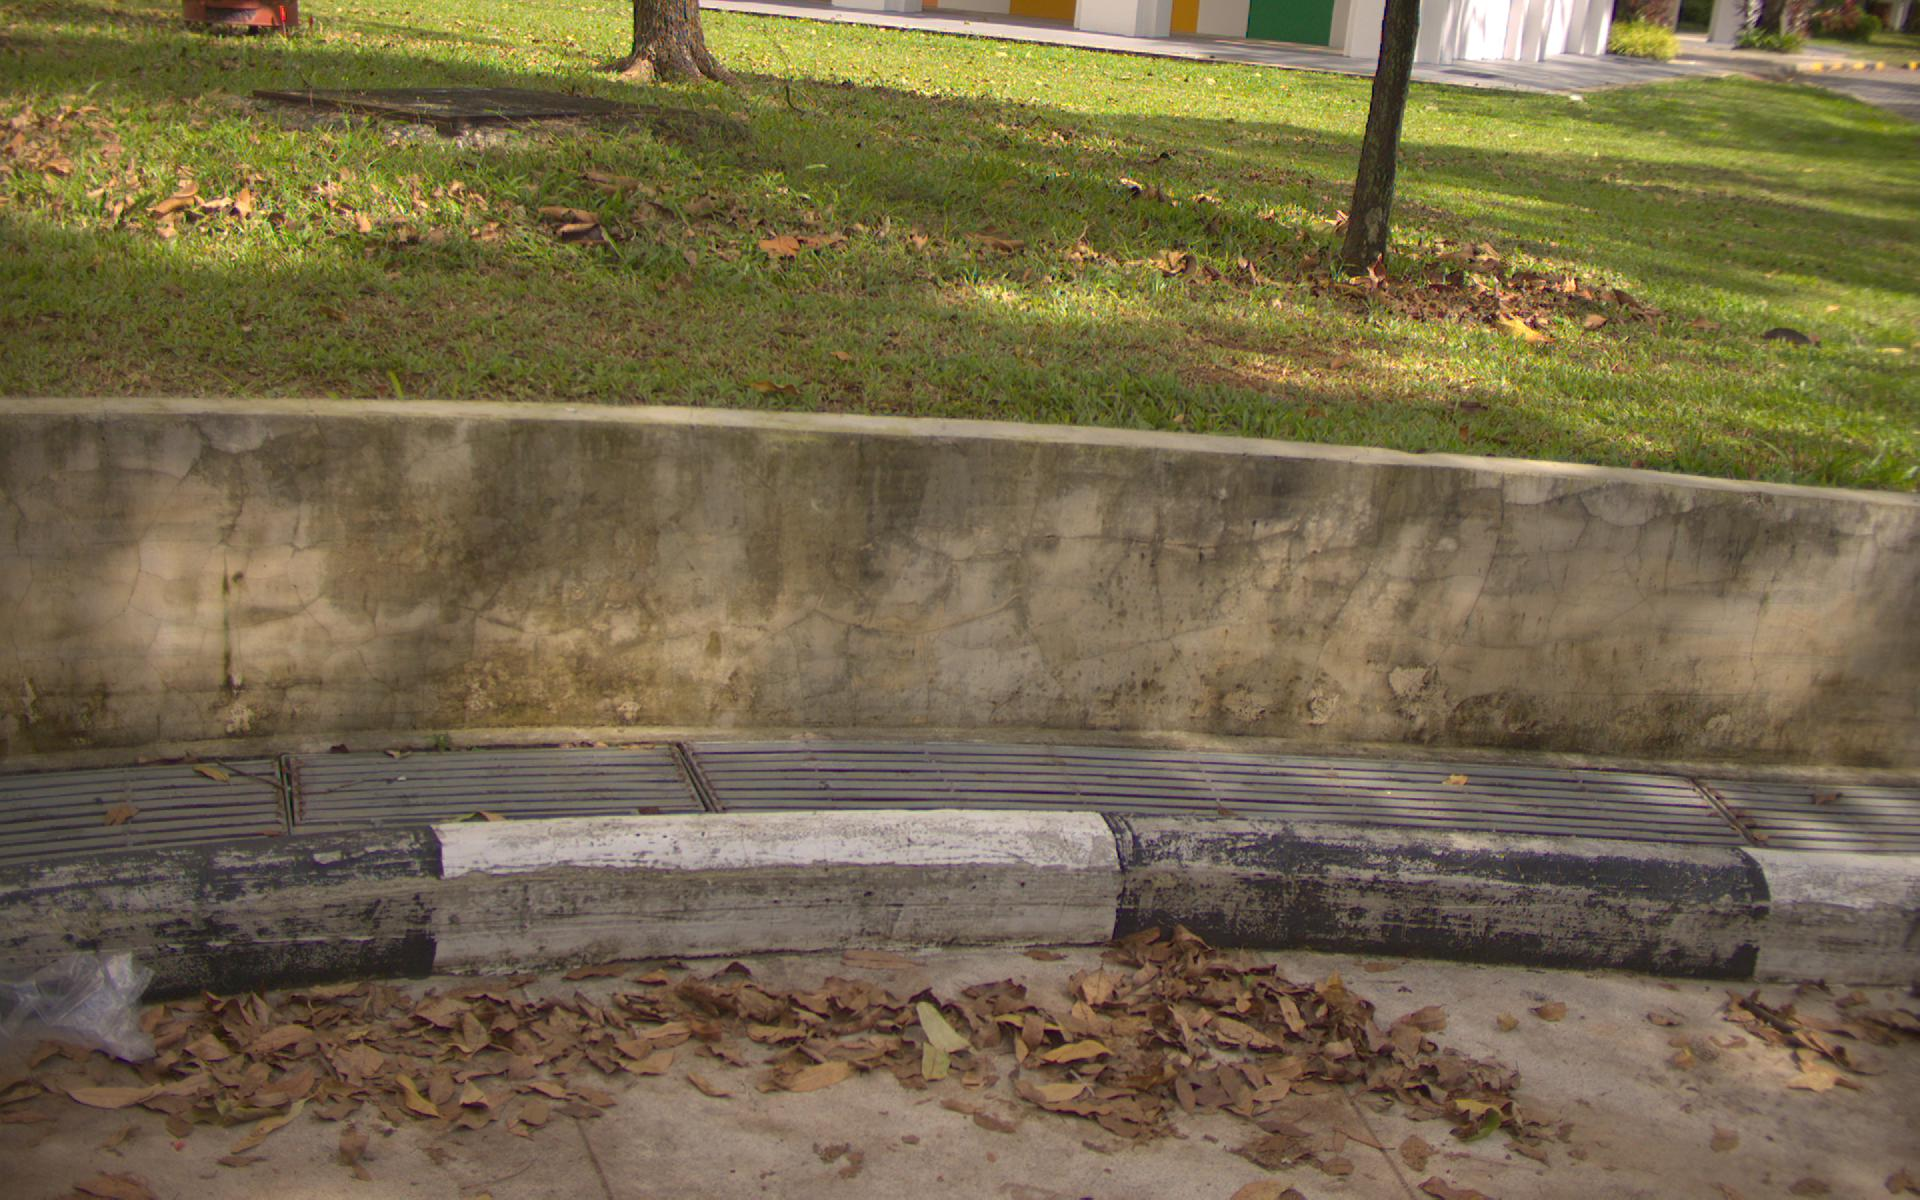curb_dic_low: (12, 735, 1920, 810)
road_curb_medium: (12, 990, 1552, 1186)
road_turf_low: (17, 111, 1920, 405)
